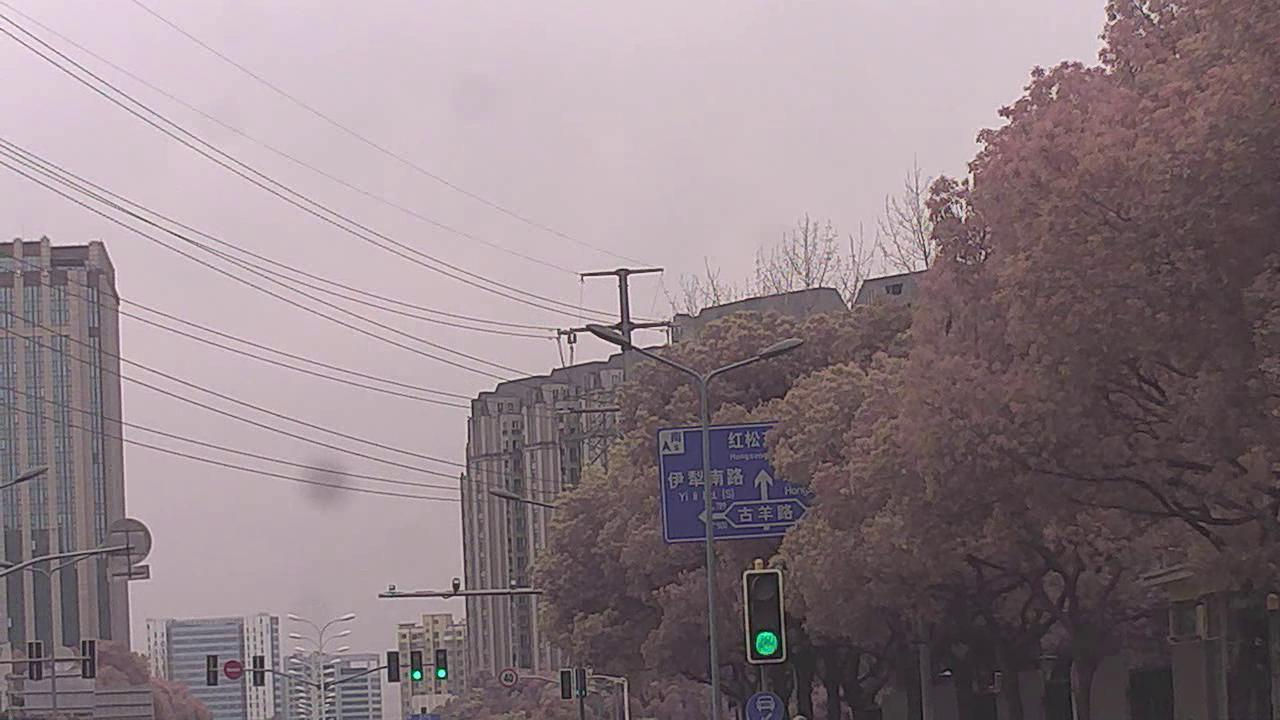traffic_light: (745, 568, 787, 664), (409, 649, 424, 683), (435, 648, 449, 682), (387, 650, 401, 684), (560, 667, 573, 699), (576, 667, 587, 699)
